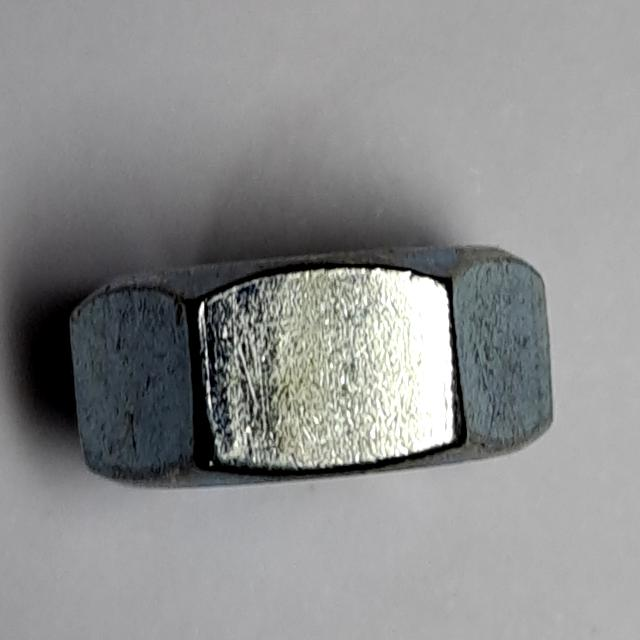Side_Excellent: (51, 227, 566, 510)
